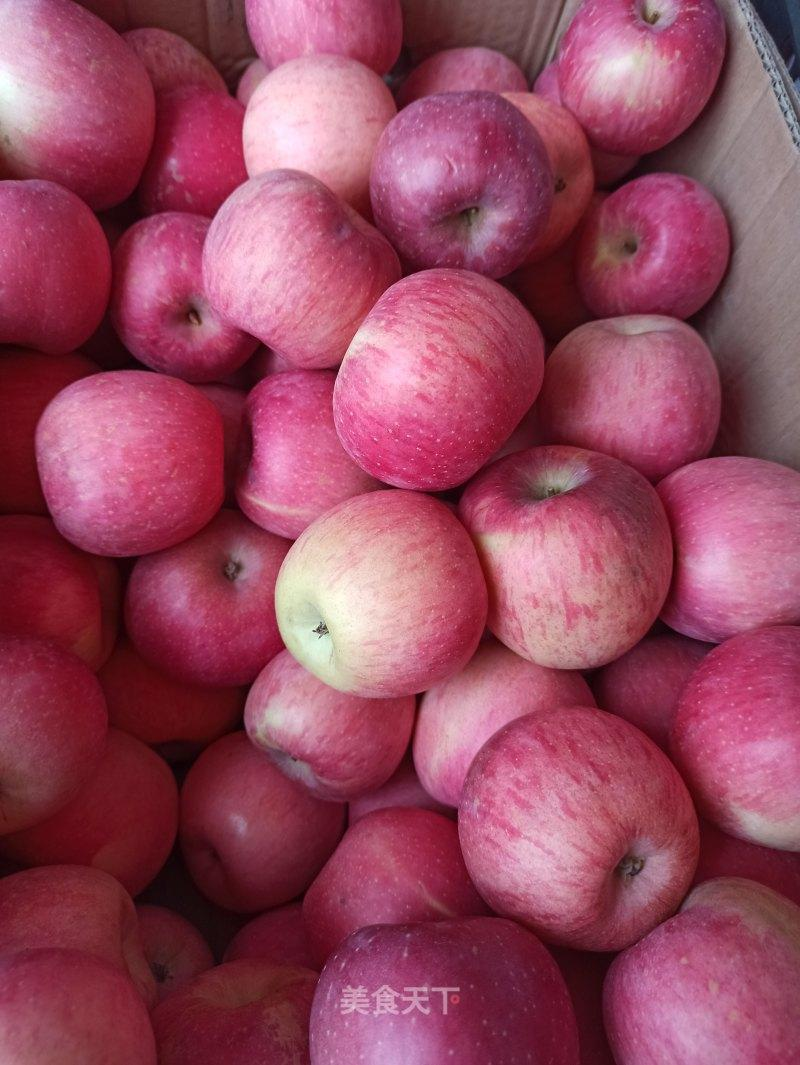apple: (454, 706, 698, 957), (329, 262, 547, 492), (457, 444, 676, 672), (273, 488, 484, 700), (306, 919, 579, 1064), (595, 871, 799, 1061), (204, 169, 389, 368), (36, 369, 227, 560), (366, 87, 550, 275), (2, 4, 154, 215), (126, 512, 294, 687), (172, 734, 340, 908), (671, 623, 799, 851), (544, 311, 722, 465), (657, 458, 800, 645), (244, 651, 414, 808), (226, 370, 383, 538), (110, 207, 262, 380), (555, 1, 723, 154), (575, 170, 731, 323), (242, 1, 404, 77)
